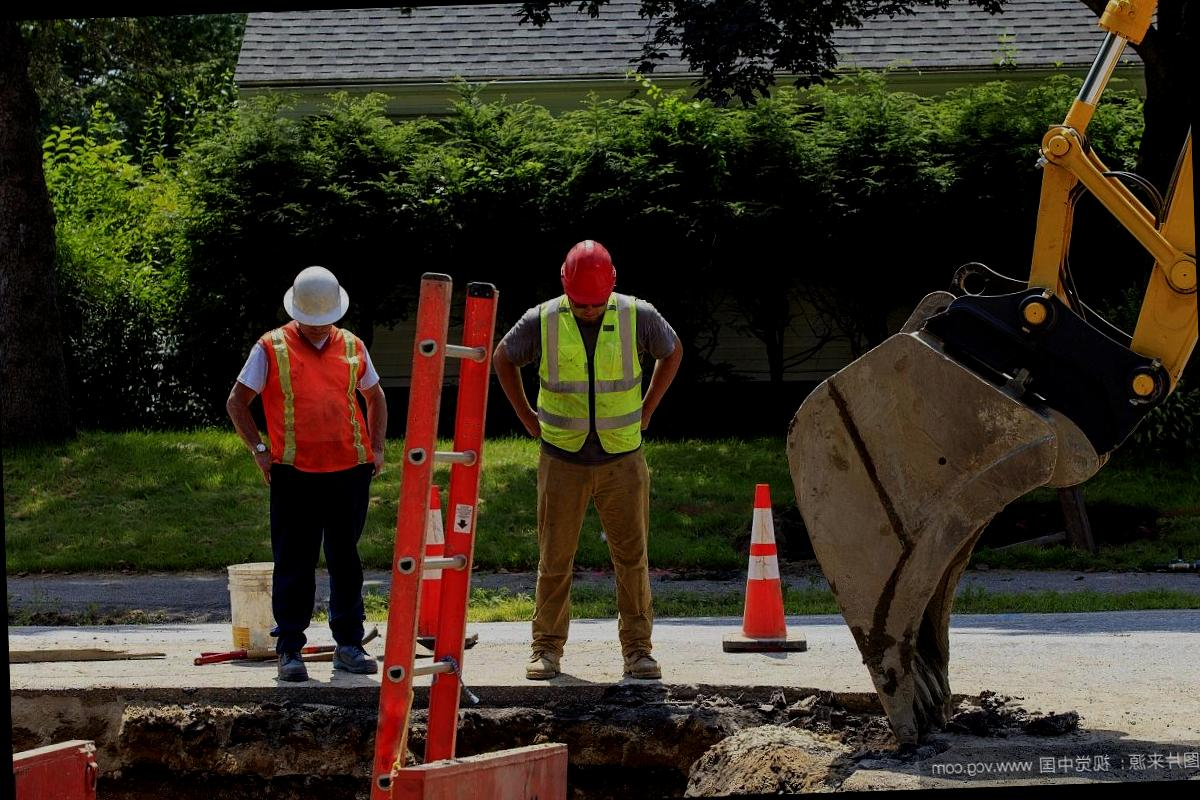helmet: (553, 232, 620, 316), (276, 262, 353, 332)
person: (479, 241, 700, 686), (219, 254, 403, 690)
